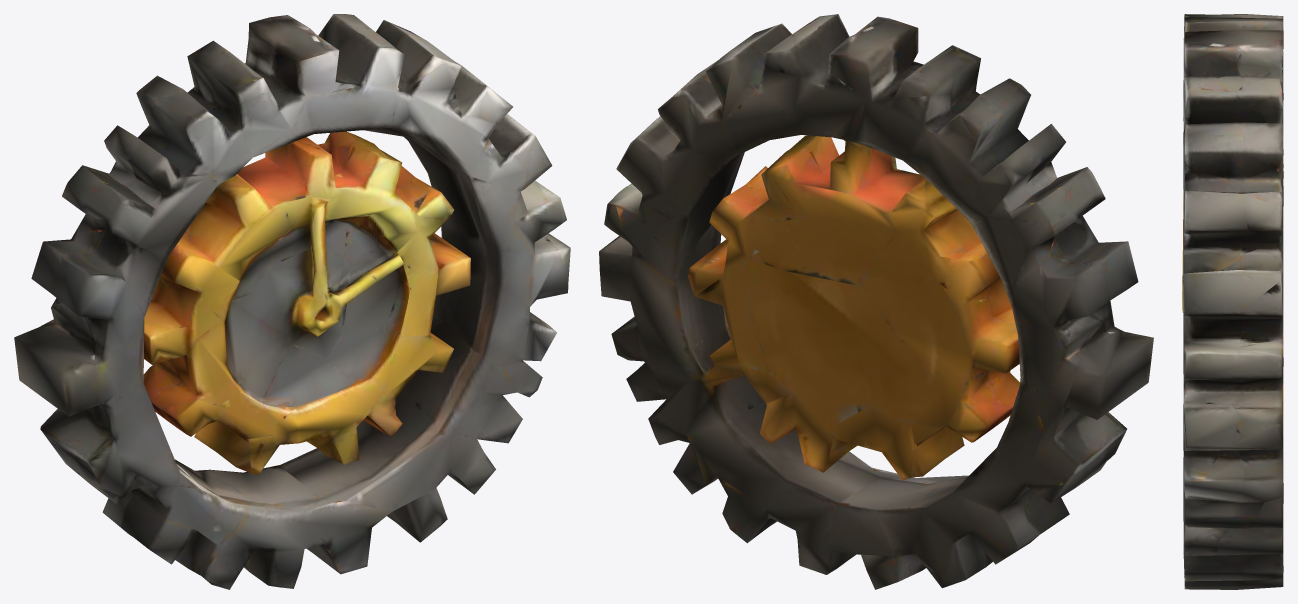
Rendered from automation-node.glb.
3 renders of one model, left to right at view 1: azimuth 30°, elevation 25°; view 2: azimuth 150°, elevation 25°; view 3: azimuth 270°, elevation 25°, orthographic. The views are drawn at different scales.
Parts seen in each view (by area): view 1: model; view 2: model; view 3: model.
Part boxes in pixels (bbox=[...]): model: bbox=[14, 14, 570, 589]; model: bbox=[599, 14, 1153, 589]; model: bbox=[1182, 14, 1283, 589].
Bounding box in the file's own units: 1.77 × 1.77 × 0.3126.
1 material, 1 textured.
